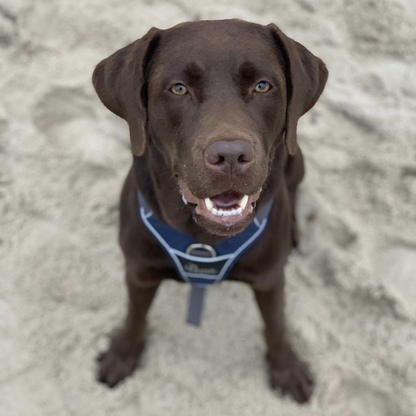labrado: (88, 13, 330, 411)
